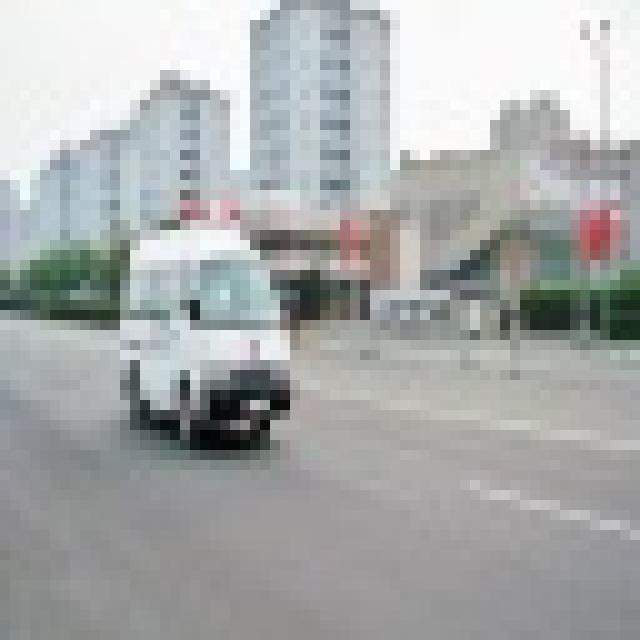Ambulance: (110, 220, 290, 440)
